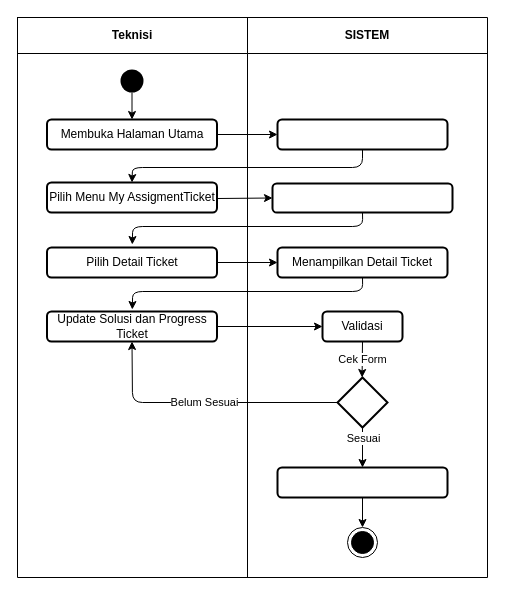
This 505x595 diagram has some shape labels left out. The centre of each missing label's shape, as x and y in pixels:
"Menampilkan Halaman Utama" belongs at point 362,134.
"Menampilkan Tabel My Assigment Ticket" belongs at point 362,197.
"Menyimpan Ke Database" belongs at point 362,482.
